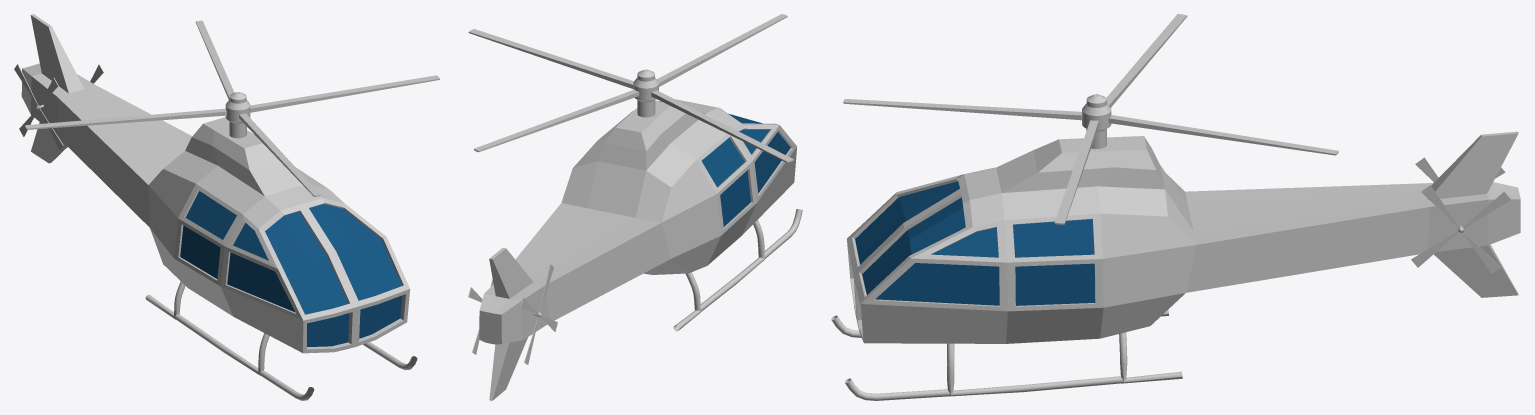
File: helicopter_animation_000081.obj
The picture shows the model from 3 angles, left to right: view 1: azimuth 30°, elevation 25°; view 2: azimuth 150°, elevation 25°; view 3: azimuth 270°, elevation 25°; orthographic projection. The views are drawn at different scales.
Visible parts, largest first — view 1: Helicopter.007_Cylinder.008, Helicopter.001_Cylinder.001, Helicopter.004_Cylinder.005; view 2: Helicopter.007_Cylinder.008, Helicopter.001_Cylinder.001, Helicopter.004_Cylinder.005; view 3: Helicopter.007_Cylinder.008, Helicopter.001_Cylinder.001, Helicopter.003_Cylinder.004.
Part boxes in pixels (left/top/right/bottom): Helicopter.007_Cylinder.008: left=21, top=14, right=417, bottom=400; Helicopter.001_Cylinder.001: left=25, top=20, right=439, bottom=196; Helicopter.004_Cylinder.005: left=14, top=64, right=63, bottom=150; Helicopter.007_Cylinder.008: left=479, top=99, right=802, bottom=400; Helicopter.001_Cylinder.001: left=468, top=14, right=793, bottom=162; Helicopter.004_Cylinder.005: left=520, top=264, right=557, bottom=364; Helicopter.007_Cylinder.008: left=831, top=131, right=1520, bottom=400; Helicopter.001_Cylinder.001: left=843, top=14, right=1338, bottom=224; Helicopter.003_Cylinder.004: left=1411, top=185, right=1510, bottom=273.
Size of the model in its own units: 5.42 by 3.2 by 7.55.
